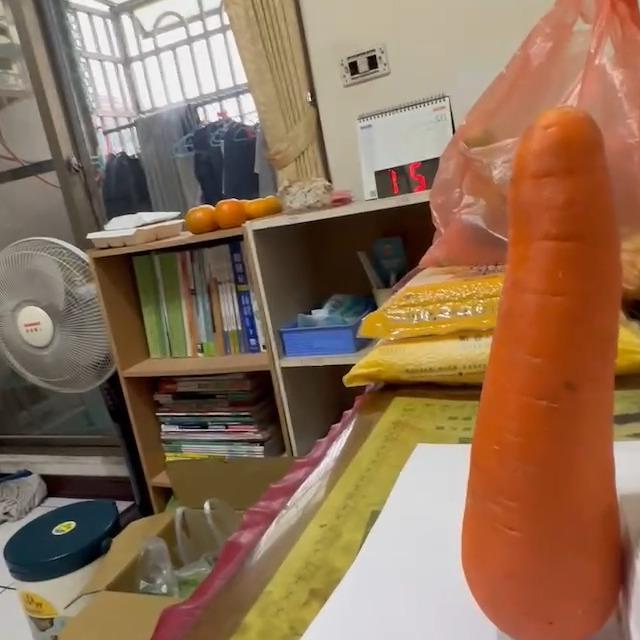carrot: (457, 107, 621, 640)
